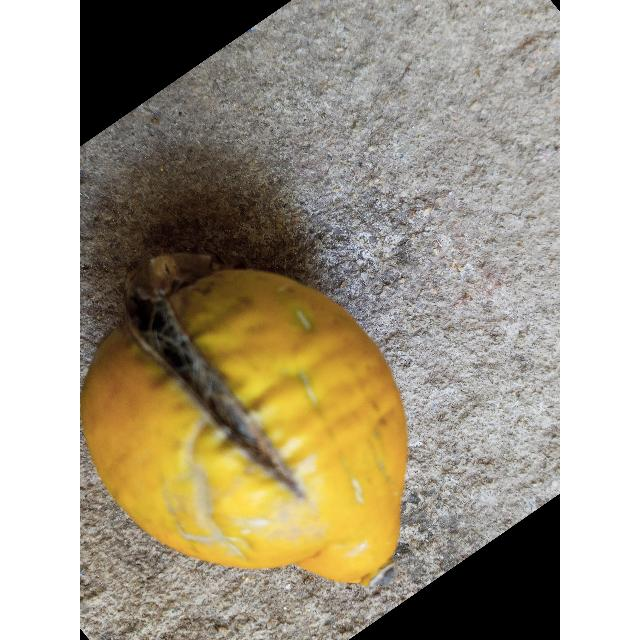damaged: (80, 254, 408, 588)
